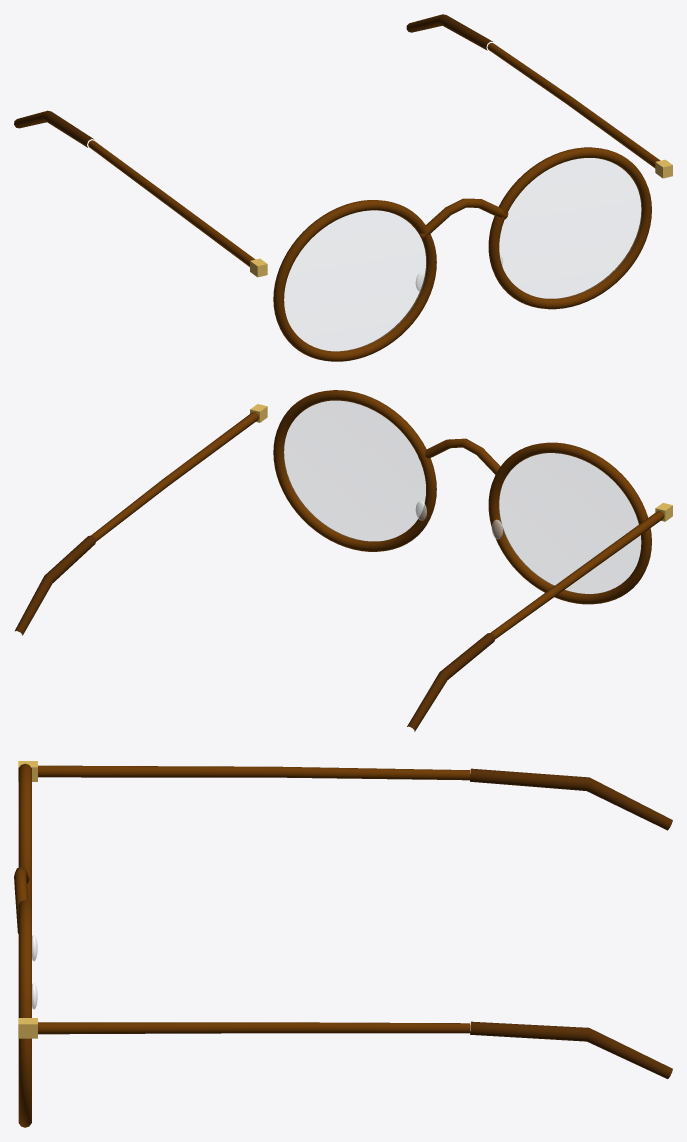
3 views of the same model, one above another, from view 1: azimuth 30°, elevation 25°; view 2: azimuth 150°, elevation 25°; view 3: azimuth 270°, elevation 25° (orthographic). The views are drawn at different scales.
Visible parts, largest first — view 1: Lens_L, Lens_R, Rim_L, Rim_R, Temple_R, Temple_L, TempleTip_R, TempleTip_L, Bridge; view 2: Lens_R, Lens_L, Rim_R, Rim_L, Temple_L, Temple_R, TempleTip_L, TempleTip_R, Bridge; view 3: Temple_R, Temple_L, TempleTip_L, TempleTip_R, Rim_R, Rim_L, Bridge.
Part boxes in pixels (x1,y1,x2,y2): Lens_L: (284,210,426,351); Lens_R: (499,158,641,298); Rim_L: (273,200,436,361); Rim_R: (488,147,651,309); Temple_R: (487,43,660,168); Temple_L: (88,140,255,266); TempleTip_R: (406,14,492,50); TempleTip_L: (14,110,94,147); Bridge: (420,198,508,238); Lens_R: (283,401,425,541); Lens_L: (499,453,640,593); Rim_R: (273,390,436,551); Rim_L: (488,442,651,604); Temple_L: (490,510,664,638); Temple_R: (91,412,259,541); TempleTip_L: (407,633,495,731); TempleTip_R: (15,535,96,635); Bridge: (418,438,503,479); Temple_R: (38,1022,470,1034); Temple_L: (38,765,470,780); TempleTip_L: (470,768,672,830); TempleTip_R: (470,1021,672,1078); Rim_R: (18,900,31,1127); Rim_L: (18,763,31,904); Bridge: (14,866,29,933).
Size of the model in its own units: 2.55 by 0.9178 by 2.69.
